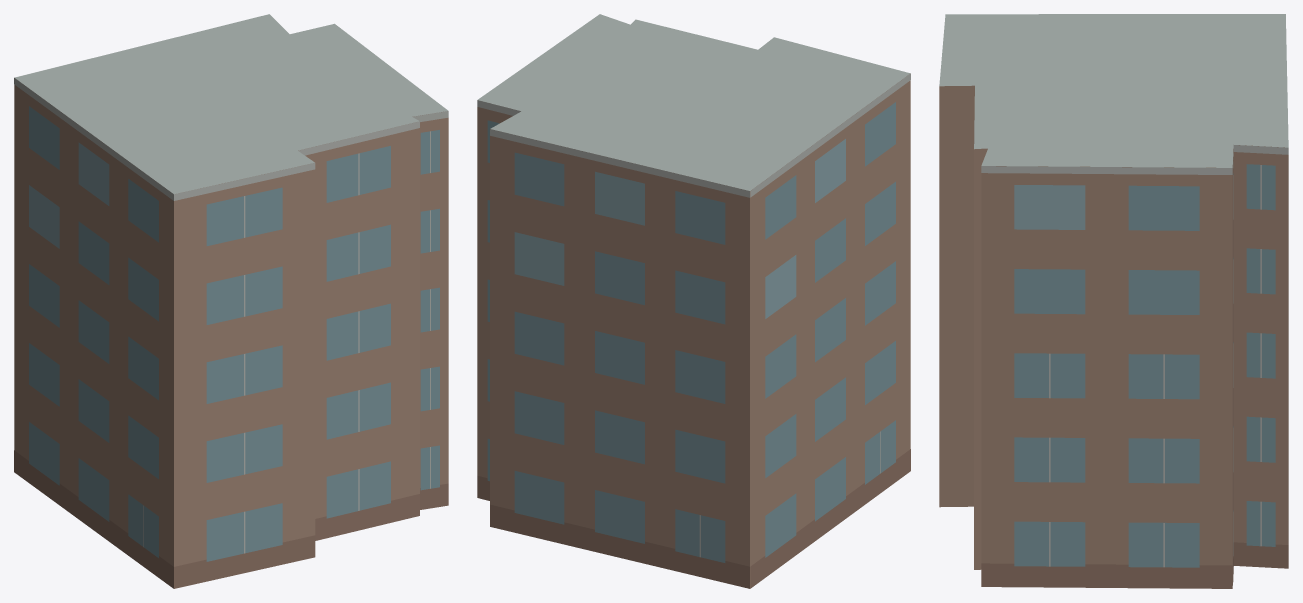
Rendered from survey-upis-32814271.glb.
3 views of the same model, side by side, from view 1: azimuth 30°, elevation 25°; view 2: azimuth 150°, elevation 25°; view 3: azimuth 270°, elevation 25° (orthographic). The views are drawn at different scales.
Parts seen in each view (by area): view 1: survey-upis-32814271.tmp; view 2: survey-upis-32814271.tmp; view 3: survey-upis-32814271.tmp.
Part boxes in pixels (x1,y1,x2,y2): survey-upis-32814271.tmp: (14,14,448,588); survey-upis-32814271.tmp: (477,14,910,588); survey-upis-32814271.tmp: (939,14,1288,588).
Size of the model in its own units: 11.22 by 14.3 by 10.77.
